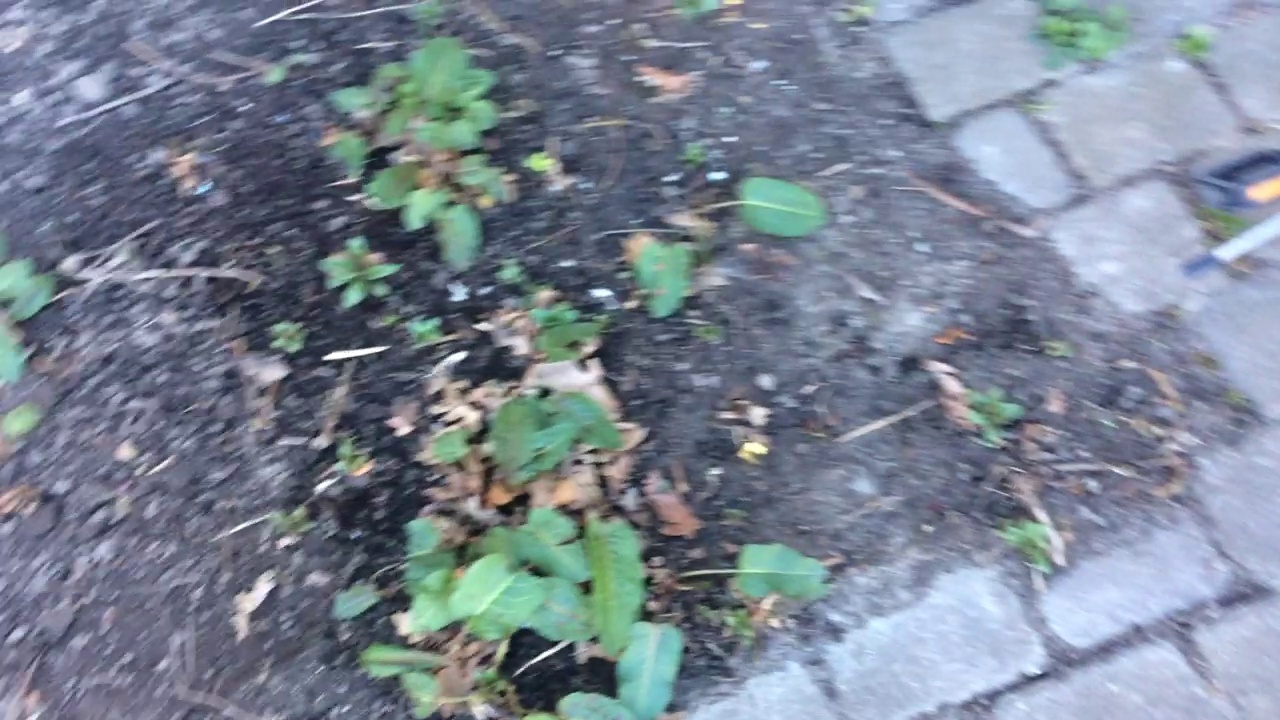rumexw: (374, 369, 837, 720), (325, 40, 530, 278), (624, 169, 824, 323), (1, 259, 56, 391)
